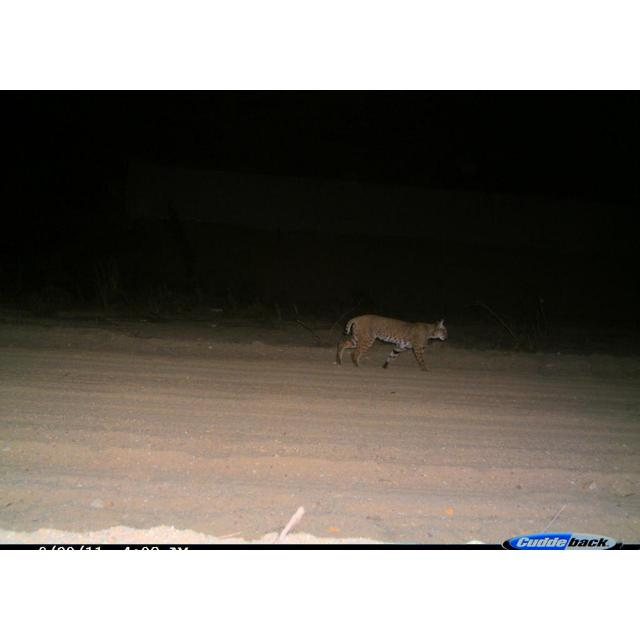animals: (336, 310, 448, 376)
